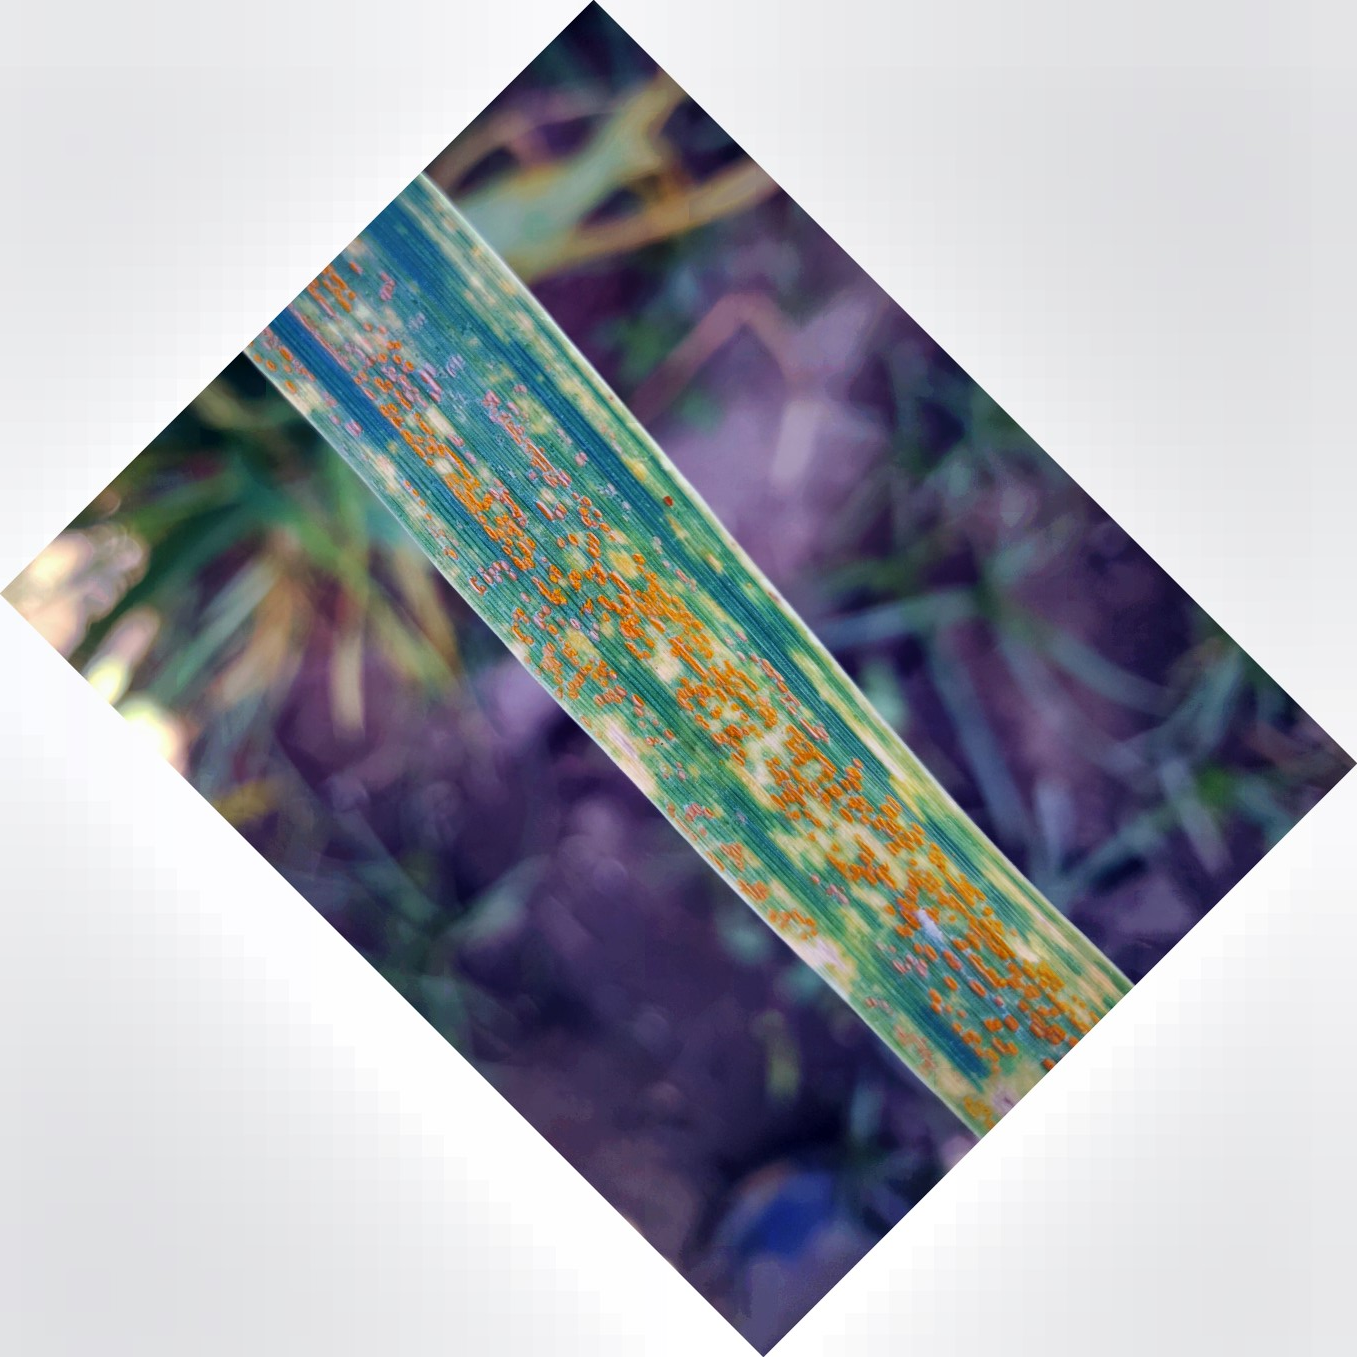Leaf Rust: (306, 301, 1066, 1115)
